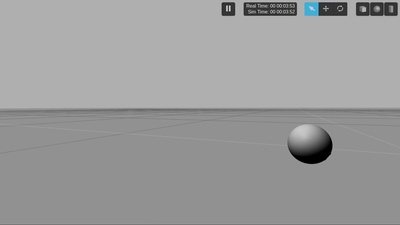mira_robot: (287, 123, 333, 164)
